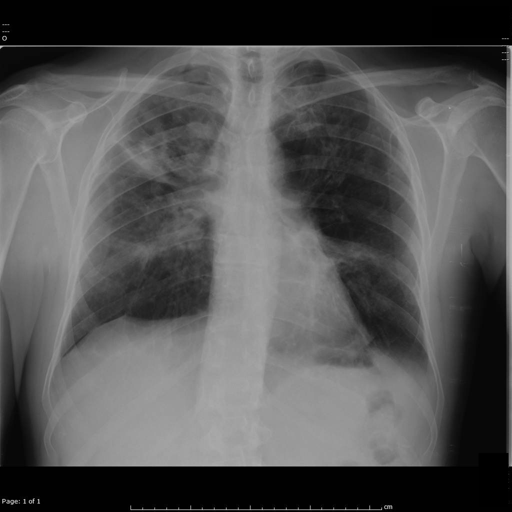TB: (110, 136, 188, 194), (106, 214, 190, 267)
